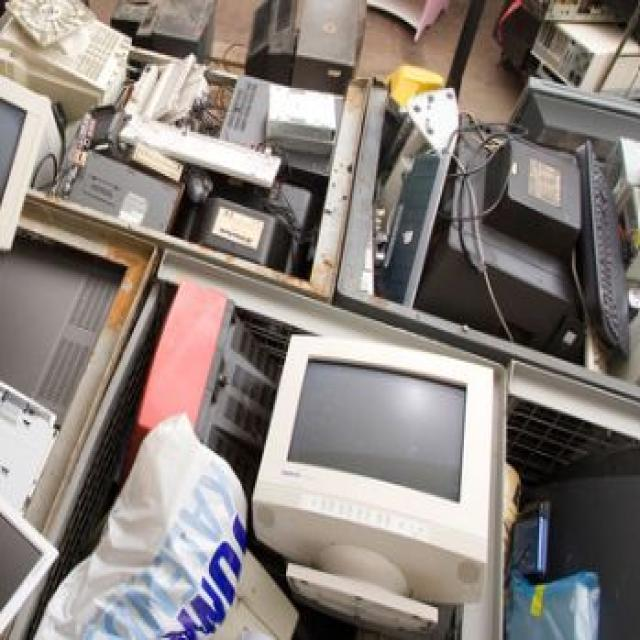electronic: (277, 278, 601, 640), (380, 114, 499, 366), (107, 97, 303, 226)
